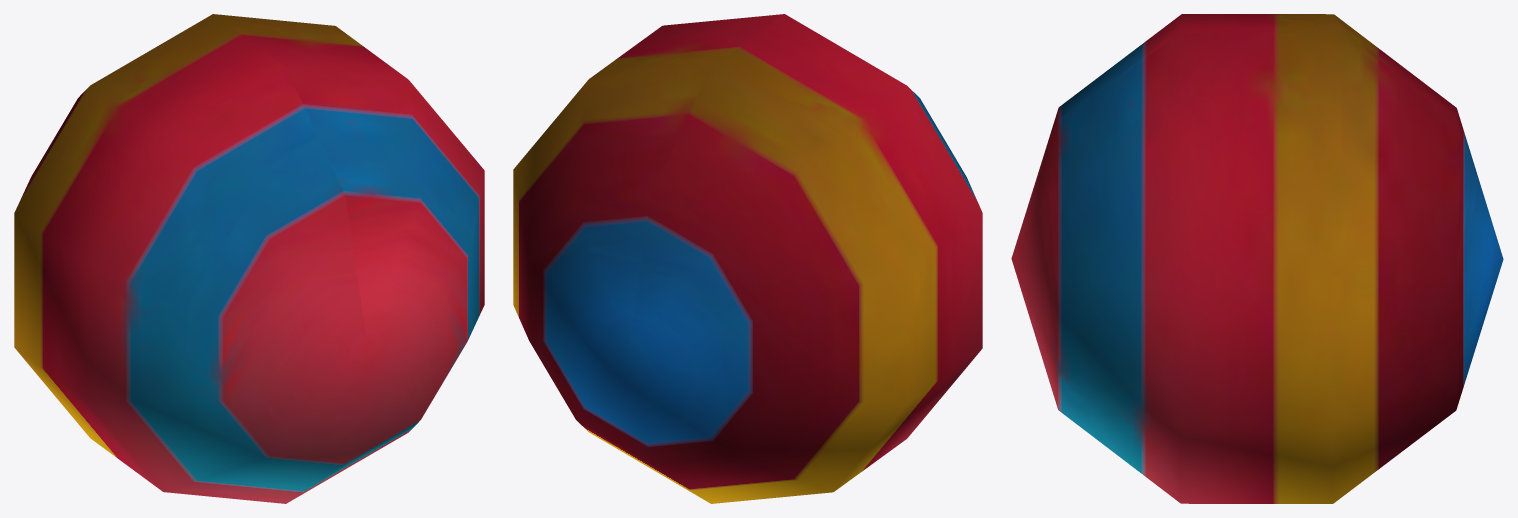
Rendered from Zombie_Clown_Ball_99660b8f__Zombie_Clown_Ball_e26fda32_c1f257.obj.
3 views of the same model, side by side, from view 1: azimuth 30°, elevation 25°; view 2: azimuth 150°, elevation 25°; view 3: azimuth 270°, elevation 25° (orthographic). The views are drawn at different scales.
Size of the model in its own units: 0.1759 by 0.1848 by 0.1823.
Materials: 1 (1 with a texture image).
